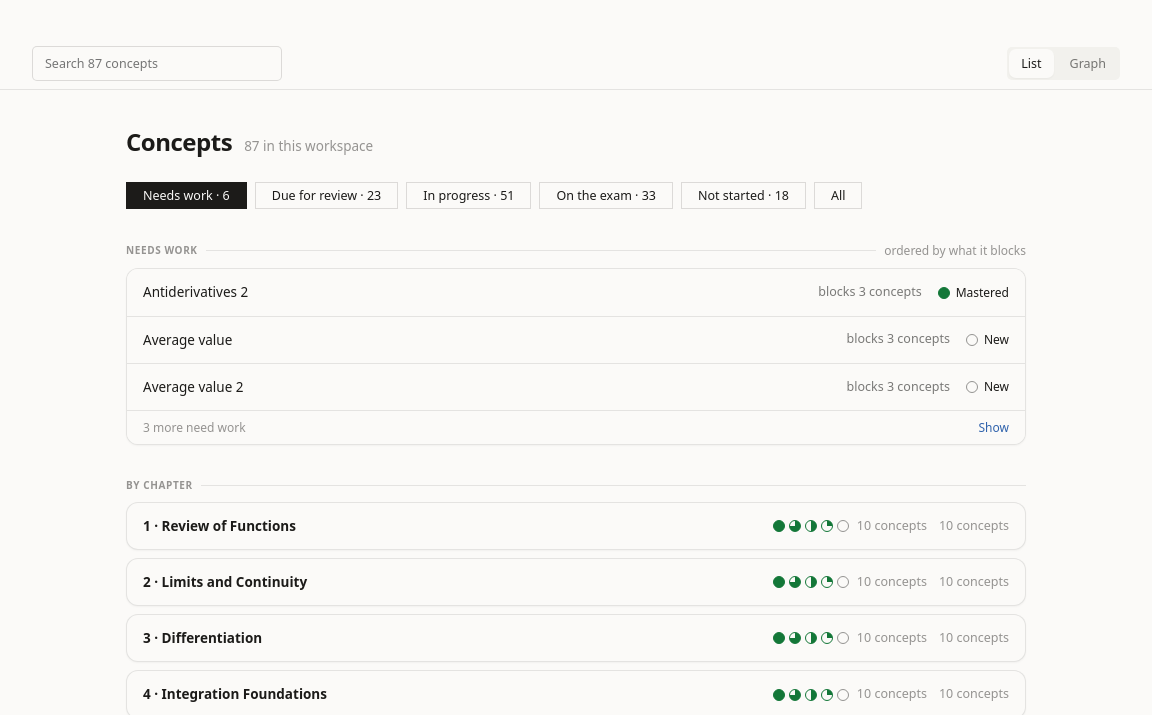
Test: ConceptsListPage › expands needs work, filters by in-progress and not-started, and keeps graph opt-in
Expected: the text "87 in this workspace" is shown, [244,135,373,157]
Click the button "3 more need work Show" at (194, 428), box [127,410,1025,444]
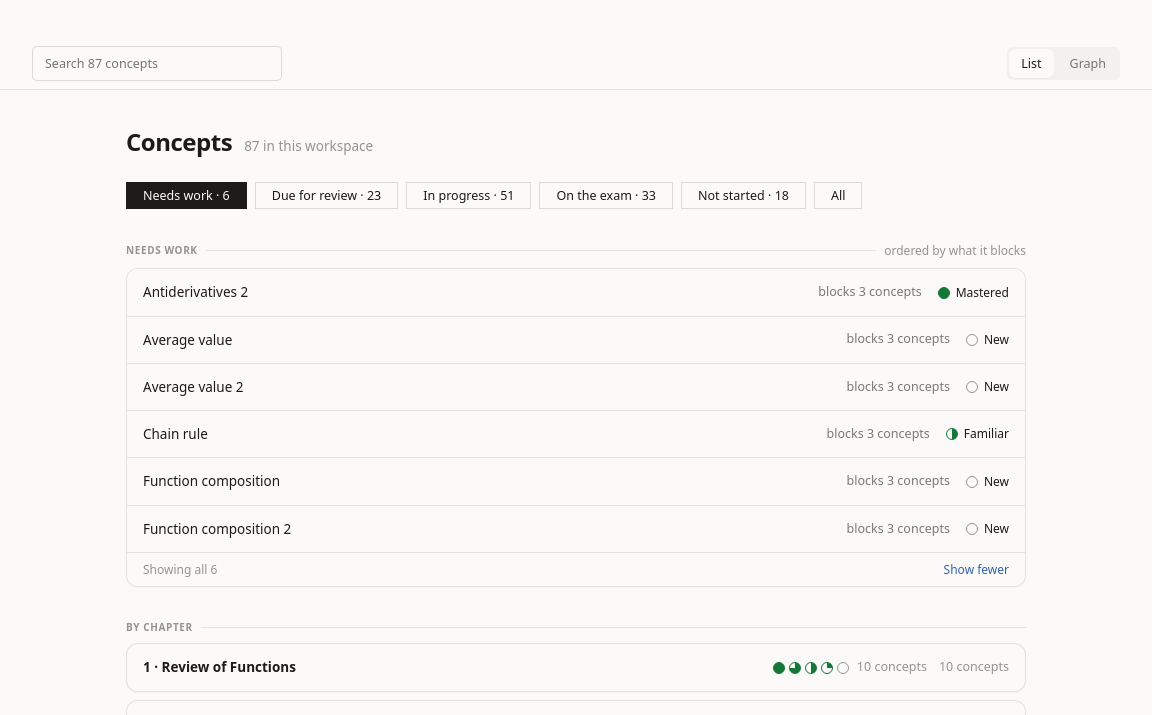
Now the number of elements titled "Mastery:" is 6, box [938,286,1009,298]; [966,334,1009,346]; [966,381,1009,393]; [946,428,1009,440]; [966,476,1009,488]; [966,523,1009,535]
Click the button "In progress · 51" at (469, 195), box [406,182,532,209]
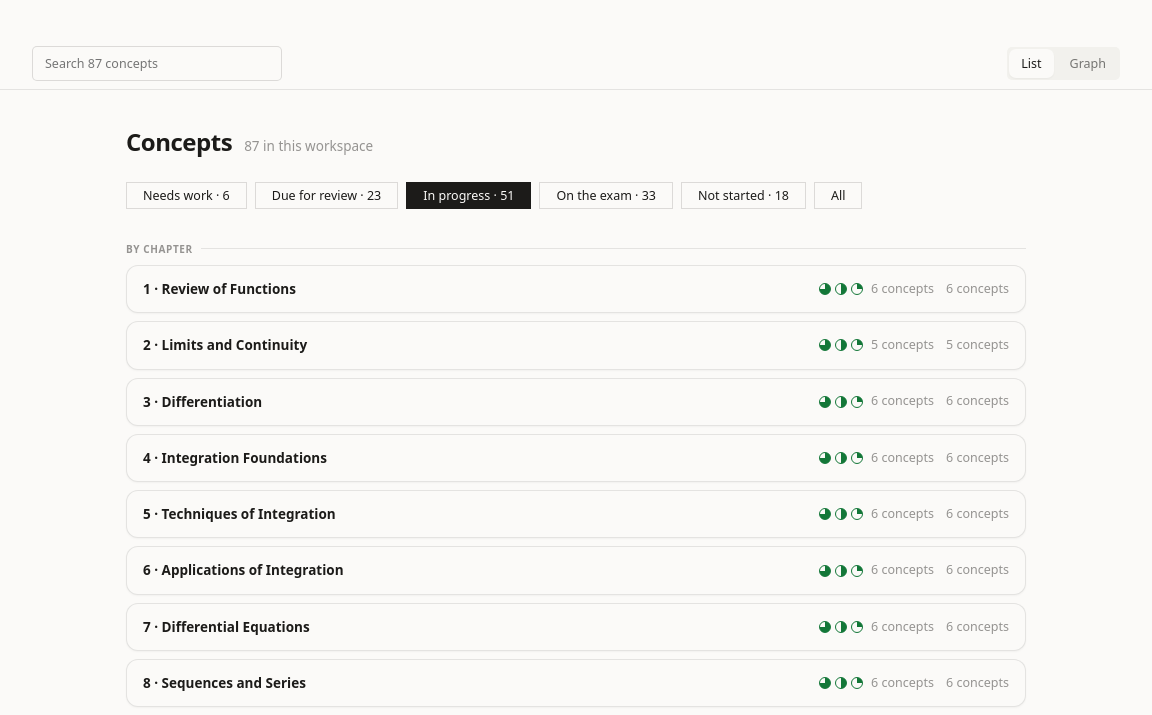
Now the button "In progress · 51" is pressed, box [406,182,532,209]
Click the button "Not started · 18" at (743, 195), box [681,182,806,209]
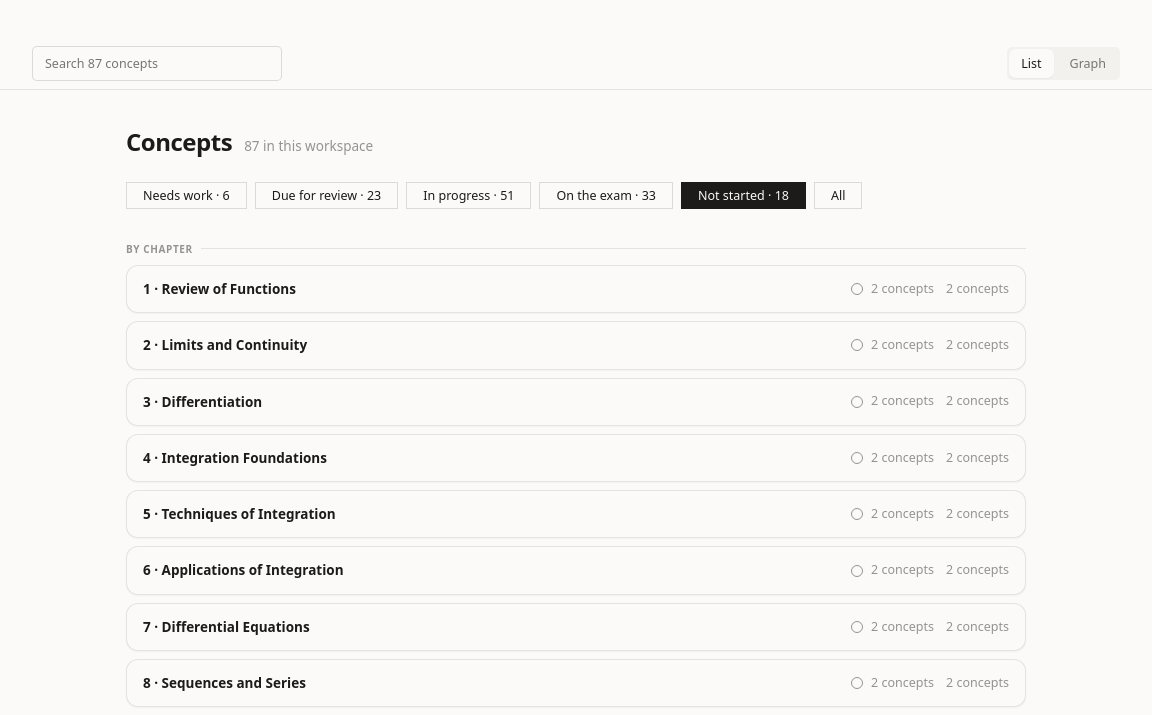
Now the button "Not started · 18" is pressed, box [681,182,806,209]
Click the button "Due for review · 23" at (327, 195), box [255,182,398,209]
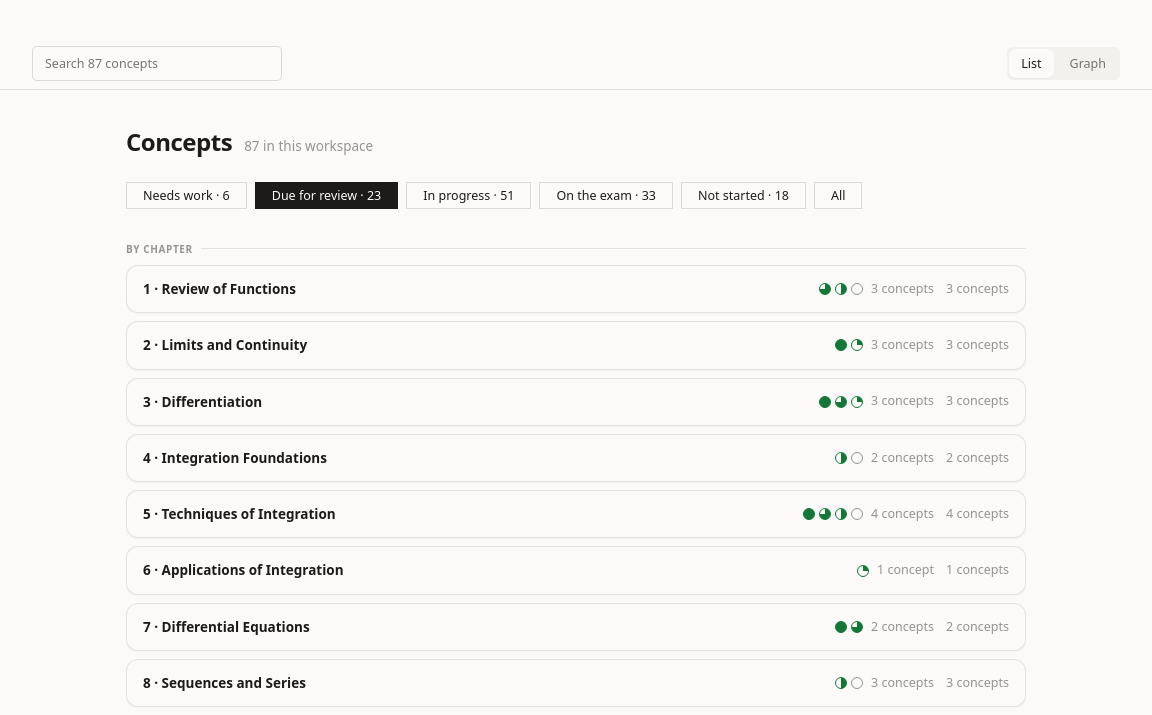
Expected: the text "Concept graph" is not shown
Now the button "Due for review · 23" is pressed, box [255,182,398,209]
Click the button "Graph" at (1088, 64), box [1058,49,1118,78]
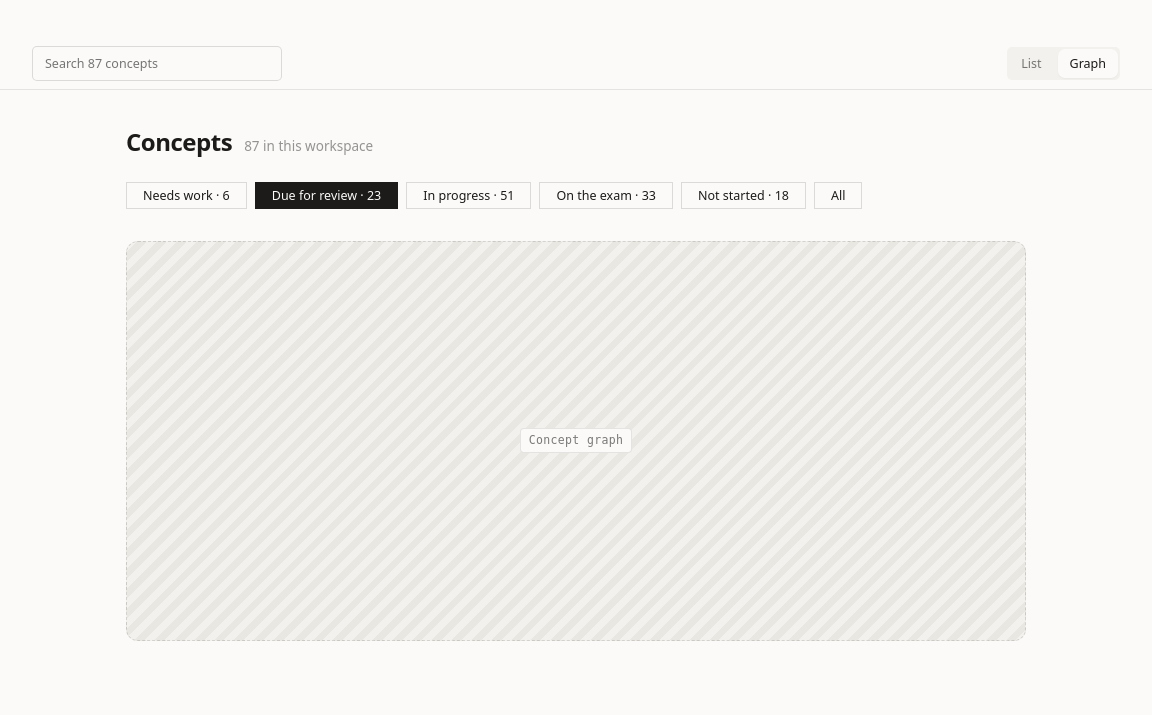
Now the text "Concept graph" is shown, box [520,428,632,453]
